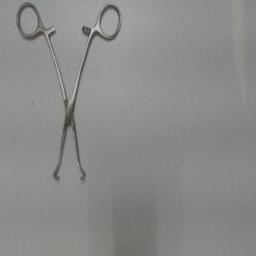Babcock Tissue Forceps: (12, 2, 122, 186)
